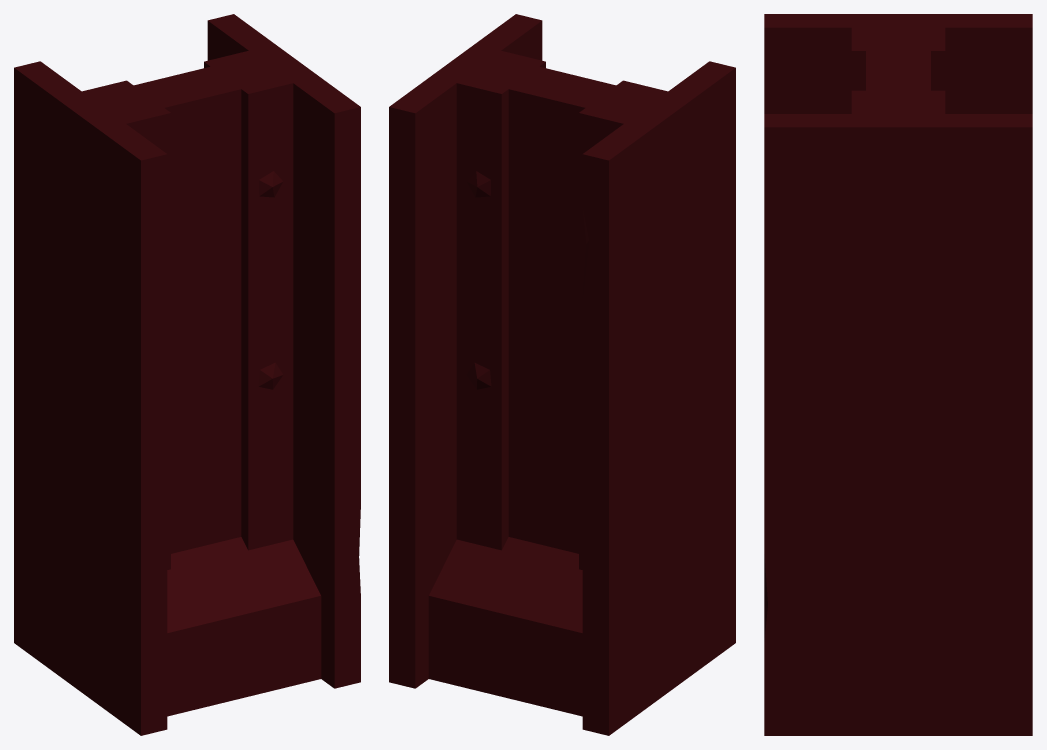
File: SW_ENV_PillarGirderBase_1m_Drk.fbx
3 renders of one model, left to right at view 1: azimuth 30°, elevation 25°; view 2: azimuth 150°, elevation 25°; view 3: azimuth 270°, elevation 25°, orthographic. The views are drawn at different scales.
Visible parts, largest first — view 1: SW_ENV_PillarGirderBase_1m_Drk; view 2: SW_ENV_PillarGirderBase_1m_Drk; view 3: SW_ENV_PillarGirderBase_1m_Drk.
Boxes of the visible parts, x1,y1,x2,y2 form: SW_ENV_PillarGirderBase_1m_Drk: [14, 14, 360, 735]; SW_ENV_PillarGirderBase_1m_Drk: [389, 14, 735, 735]; SW_ENV_PillarGirderBase_1m_Drk: [764, 14, 1032, 735].
Size of the model in its own units: 40 by 100 by 40.
